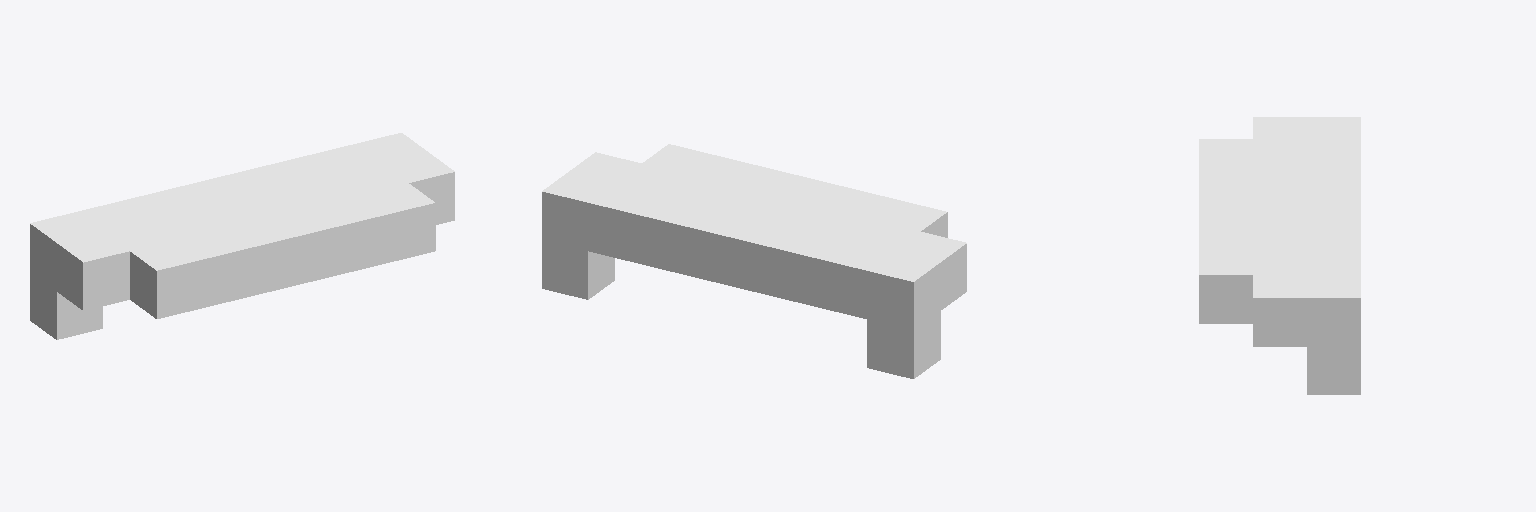
File: YellowHouseParts-39.obj
3 views of the same model, side by side, from view 1: azimuth 30°, elevation 25°; view 2: azimuth 150°, elevation 25°; view 3: azimuth 270°, elevation 25° (orthographic).
Visible parts, largest first — view 1: object 1; view 2: object 1; view 3: object 1.
Part boxes in pixels (x1,y1,x2,y2): object 1: (30,133,454,339); object 1: (542,144,966,378); object 1: (1199,117,1360,394).
Bounding box in the file's own units: 0.8 × 0.2 × 0.3.